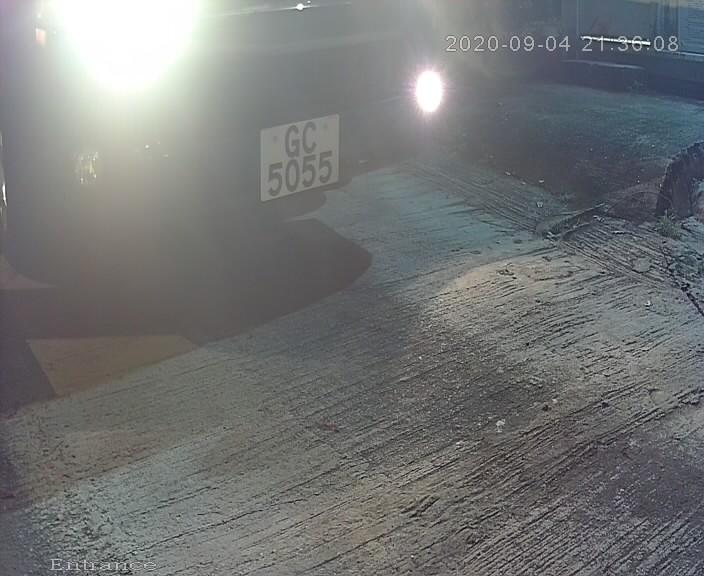License Plate: (246, 98, 349, 217)
